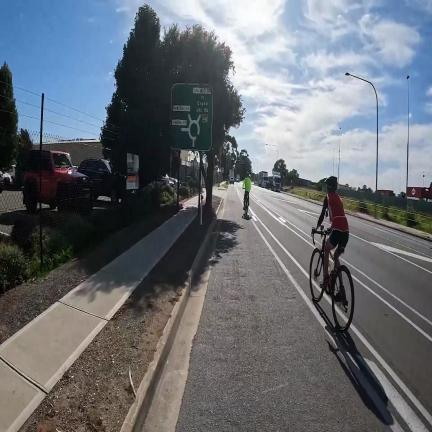Bike_Lane: (176, 190, 390, 432)
